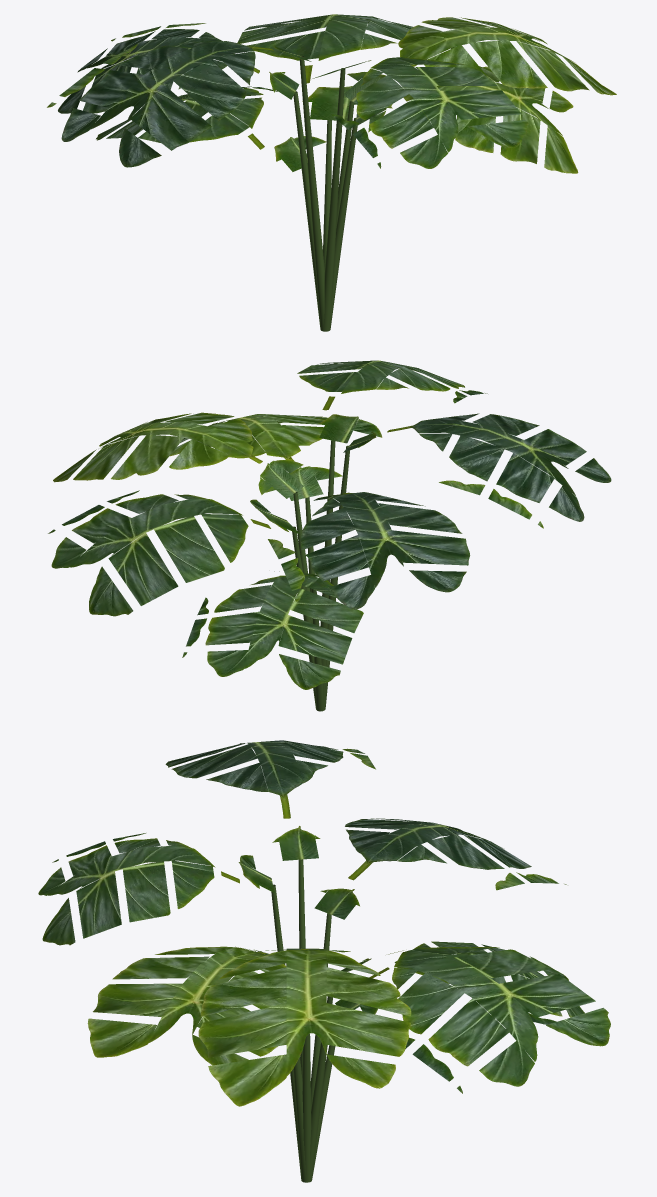
The model's file is split_leaf_02.glb.
The picture shows the model from 3 angles, top to bottom: view 1: azimuth 30°, elevation 25°; view 2: azimuth 150°, elevation 25°; view 3: azimuth 270°, elevation 25°; orthographic projection. The views are drawn at different scales.
Parts seen in each view (by area): view 1: split_leaf_02; view 2: split_leaf_02; view 3: split_leaf_02.
Boxes of the visible parts, <box> form: split_leaf_02: <box>47,14,616,331</box>; split_leaf_02: <box>48,360,611,711</box>; split_leaf_02: <box>38,740,610,1182</box>.
Size of the model in its own units: 2.56 by 1.37 by 2.24.
2 materials, 1 textured.
